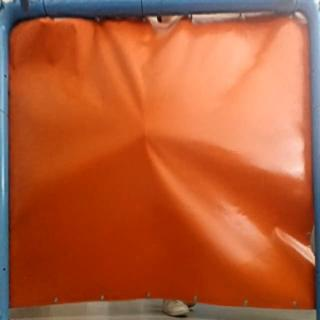Hit-hRxx: (138, 128, 152, 139)
